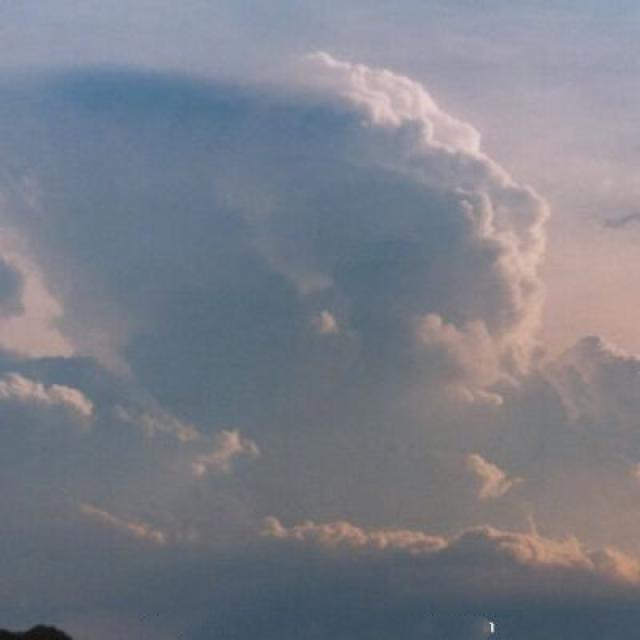Ci: (1, 76, 640, 526)
